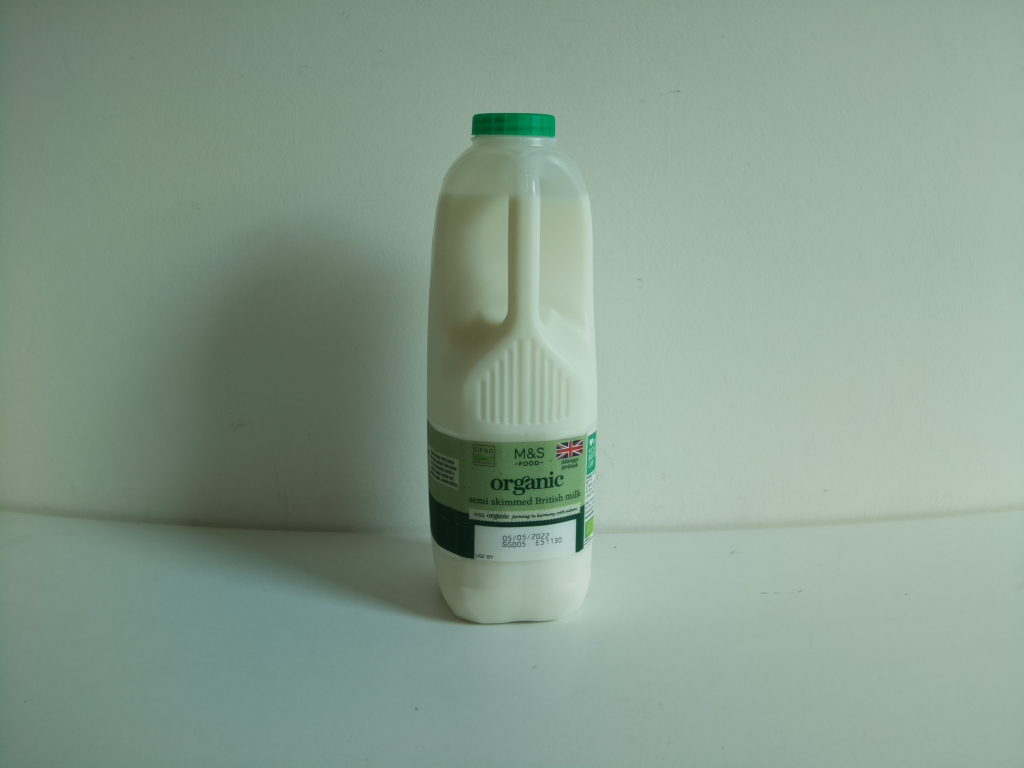milk: (426, 103, 596, 633)
